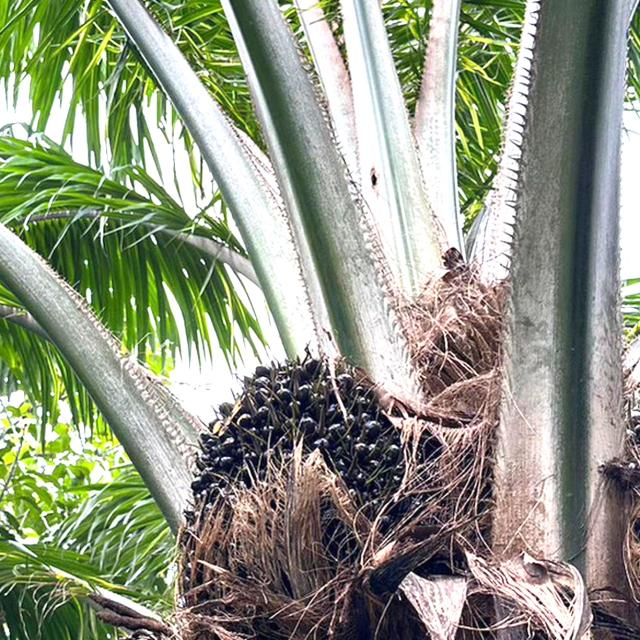unripe: (183, 348, 457, 610)
